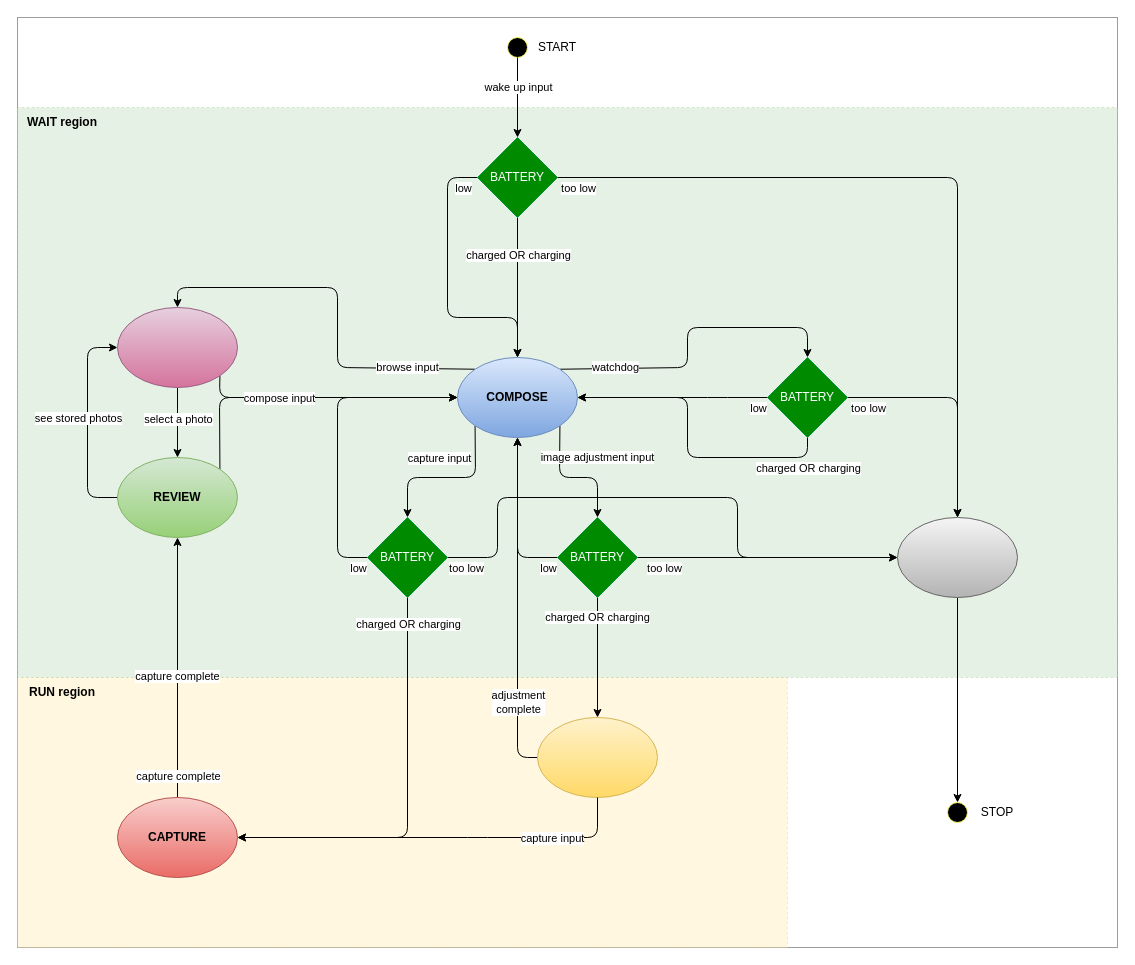
The diagram is 1135 pixels wide and 965 high, and some of its shapes have lost their labels. Each missing label, with the box of its shape:
ADJUST: (536, 716, 658, 798)
BROWSE: (116, 306, 238, 388)
STOW: (896, 516, 1018, 598)
